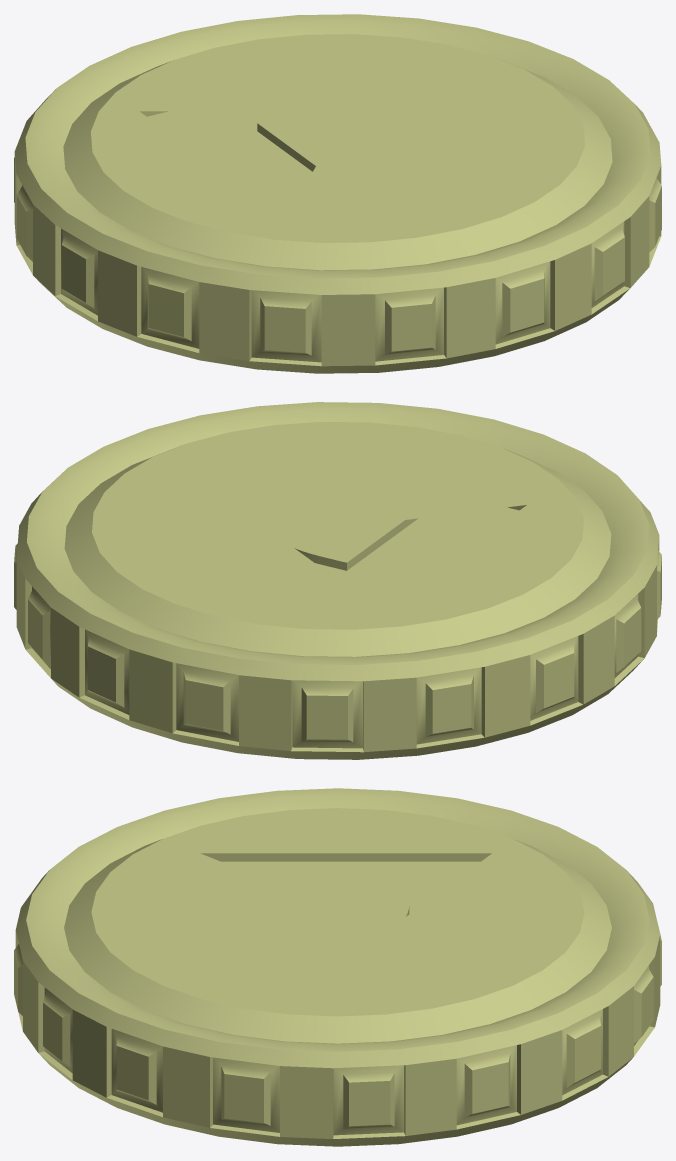
File: coin.fbx
3 views of the same model, one above another, from view 1: azimuth 30°, elevation 25°; view 2: azimuth 150°, elevation 25°; view 3: azimuth 270°, elevation 25° (orthographic).
Visible parts, largest first — view 1: Circle; view 2: Circle; view 3: Circle.
Boxes of the visible parts, x1,y1,x2,y2 form: Circle: (14, 14, 661, 373); Circle: (14, 402, 661, 759); Circle: (14, 788, 661, 1146).
Size of the model in its own units: 208 by 39.07 by 208.
